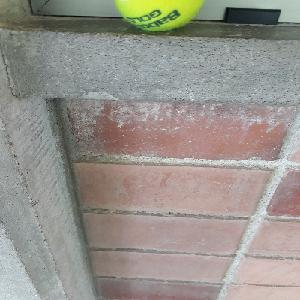Ball: (116, 0, 204, 32)
